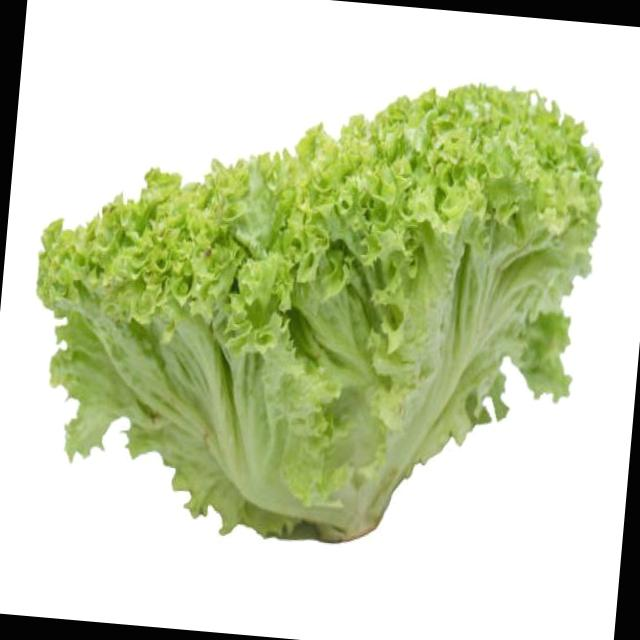Lettuce-Ready-to-Harvest: (38, 85, 600, 541)
